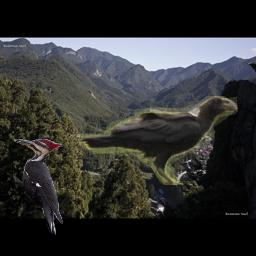Crow: (79, 96, 238, 185)
Woodpecker: (13, 139, 63, 235)
